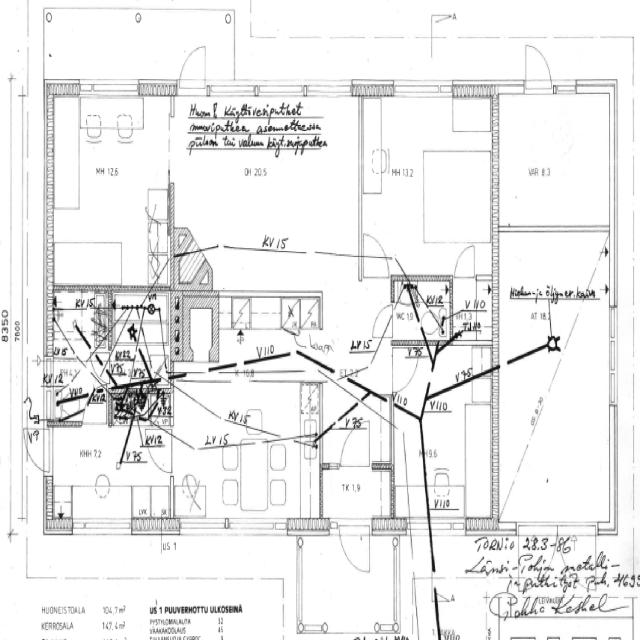door: (338, 519, 372, 579), (358, 227, 392, 284), (337, 419, 372, 473), (176, 42, 209, 99), (522, 40, 554, 98), (392, 343, 422, 398), (25, 423, 51, 473), (451, 242, 478, 286), (147, 439, 171, 473)
window: (605, 303, 621, 412), (80, 75, 142, 101), (392, 78, 454, 102), (72, 517, 132, 538), (305, 78, 355, 102), (427, 513, 468, 541), (210, 79, 256, 101), (178, 517, 228, 536), (182, 364, 215, 383), (554, 79, 578, 97), (232, 358, 248, 377)
zone: (497, 90, 614, 522), (172, 95, 359, 294), (47, 94, 170, 290), (362, 92, 494, 273), (172, 380, 319, 524), (46, 422, 171, 528), (421, 346, 494, 526), (48, 292, 109, 415), (216, 296, 308, 366), (111, 296, 170, 388), (111, 378, 171, 460), (320, 466, 395, 526), (393, 275, 452, 345), (174, 291, 219, 369), (450, 278, 495, 342)
